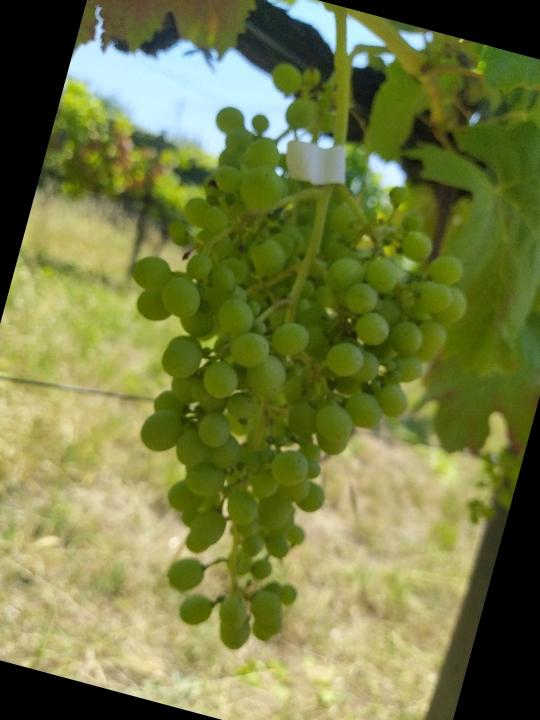grape: (35, 89, 507, 691)
